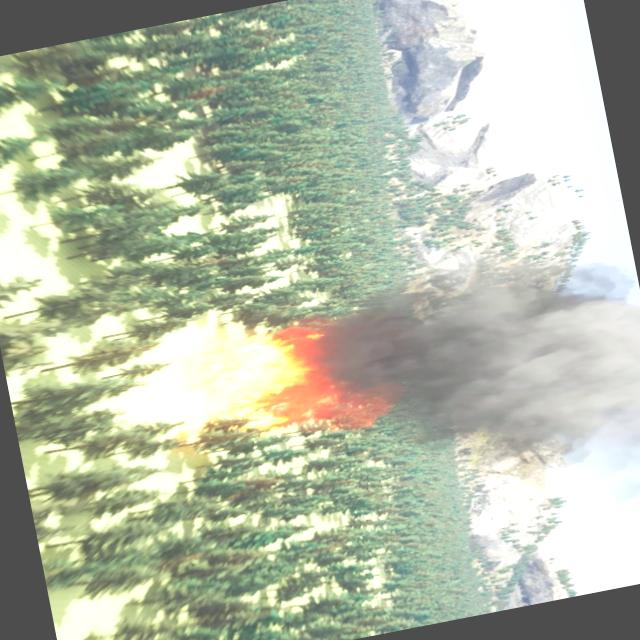fire: (202, 314, 317, 440)
smoke: (294, 236, 640, 556)
